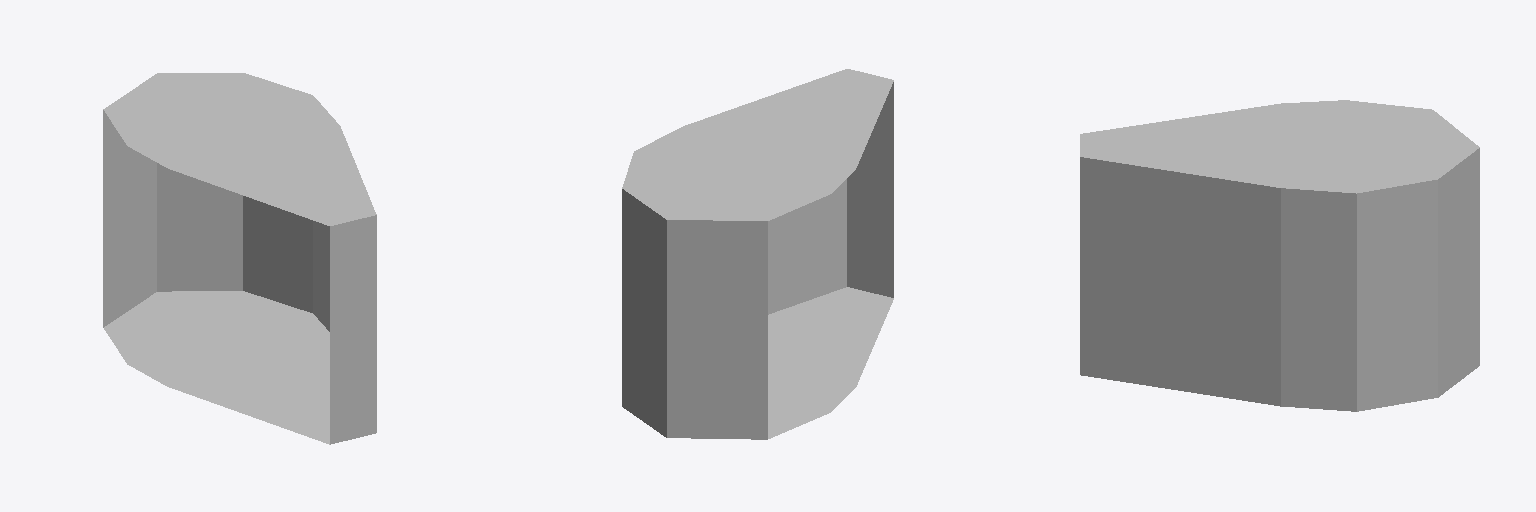
The model's file is Toilet_ConvexMesh.obj.
3 views of the same model, side by side, from view 1: azimuth 30°, elevation 25°; view 2: azimuth 150°, elevation 25°; view 3: azimuth 270°, elevation 25° (orthographic).
Visible parts, largest first — view 1: Box001; view 2: Box001; view 3: Box001.
Boxes of the visible parts, x1,y1,x2,y2 form: Box001: [103, 73, 376, 444]; Box001: [622, 69, 893, 439]; Box001: [1080, 100, 1479, 411].
Bounding box in the file's own units: 0.3676 × 0.4006 × 0.6654.